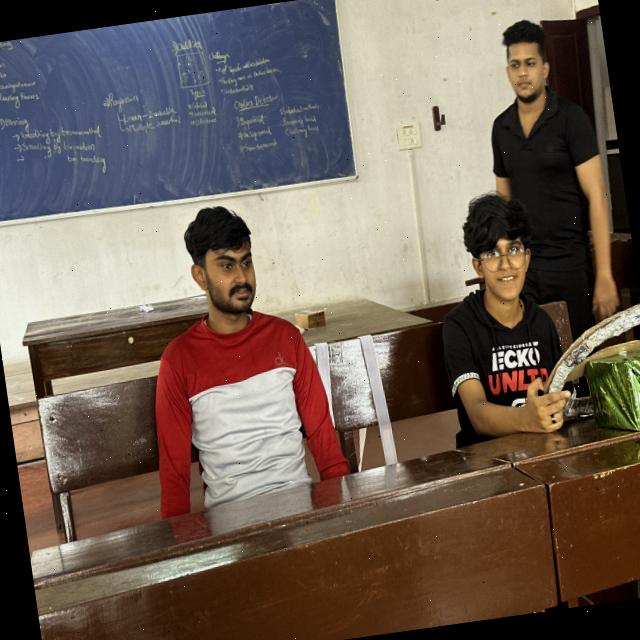Helmet: (139, 298, 351, 530), (429, 270, 597, 488)
